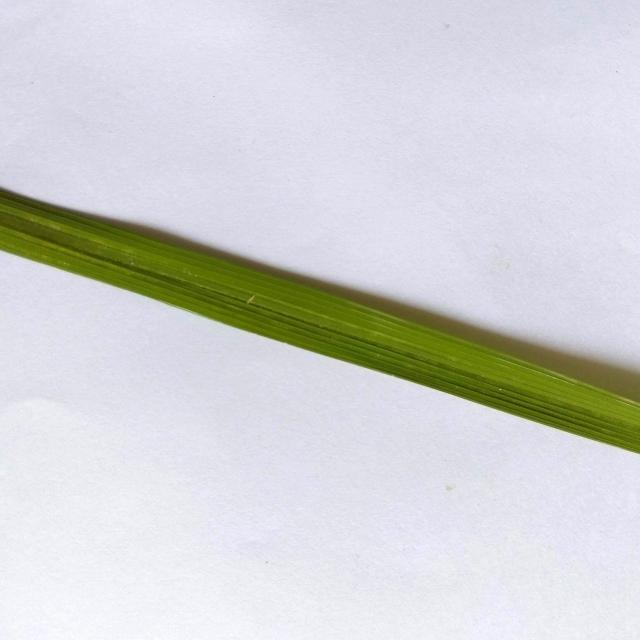healthy: (0, 154, 640, 525)
